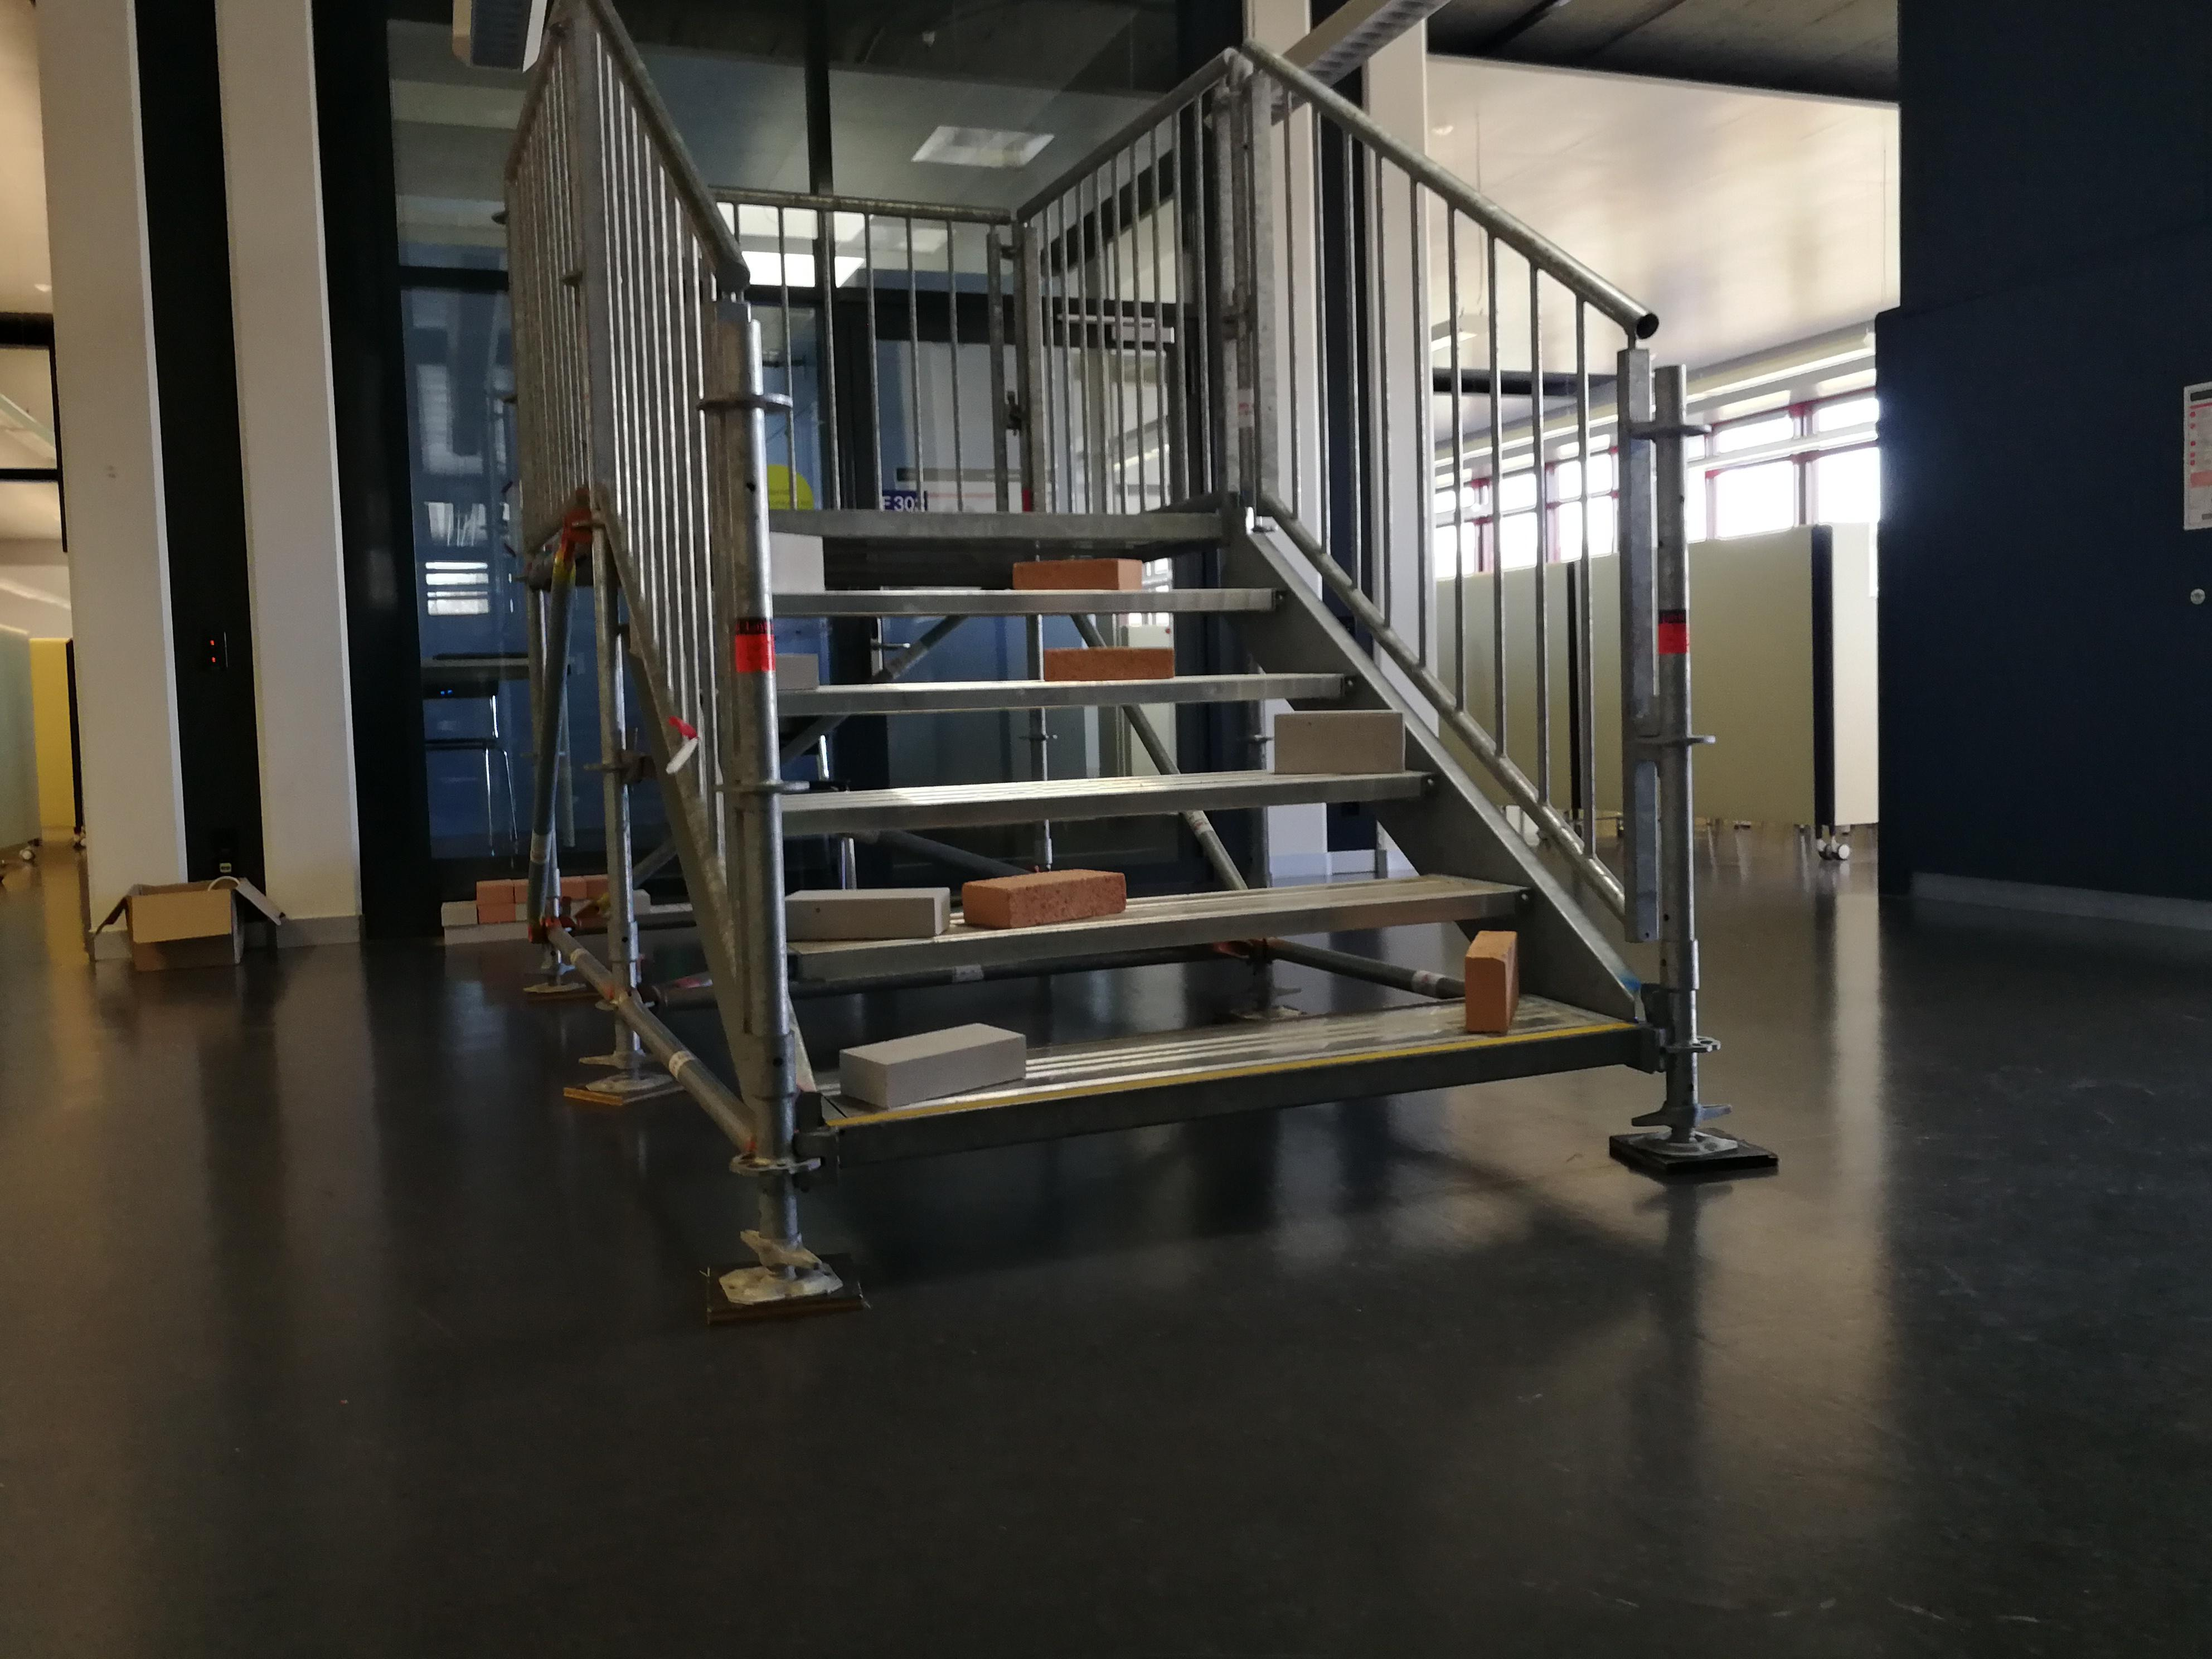brick: (843, 1021, 1021, 1105), (961, 870, 1127, 925), (1271, 711, 1406, 774), (784, 889, 948, 939), (1467, 932, 1517, 1030), (1047, 645, 1174, 683), (1017, 559, 1143, 589), (766, 532, 824, 587), (775, 652, 815, 687)
edge: (838, 1018, 1632, 1162), (787, 882, 1527, 978), (777, 770, 1433, 836), (772, 671, 1357, 714), (766, 587, 1285, 615), (782, 509, 1226, 537)
stairs: (705, 7, 1777, 1321)
steps: (747, 488, 1651, 1192)
